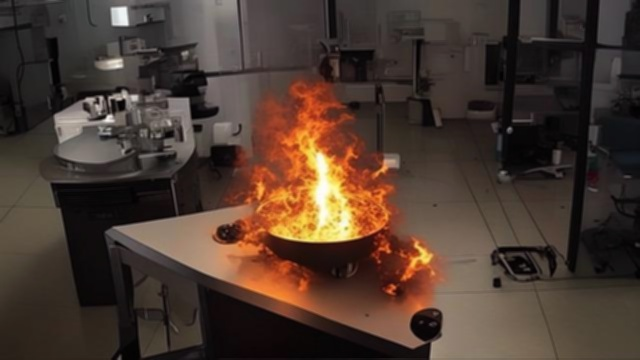fire: (221, 68, 424, 303)
